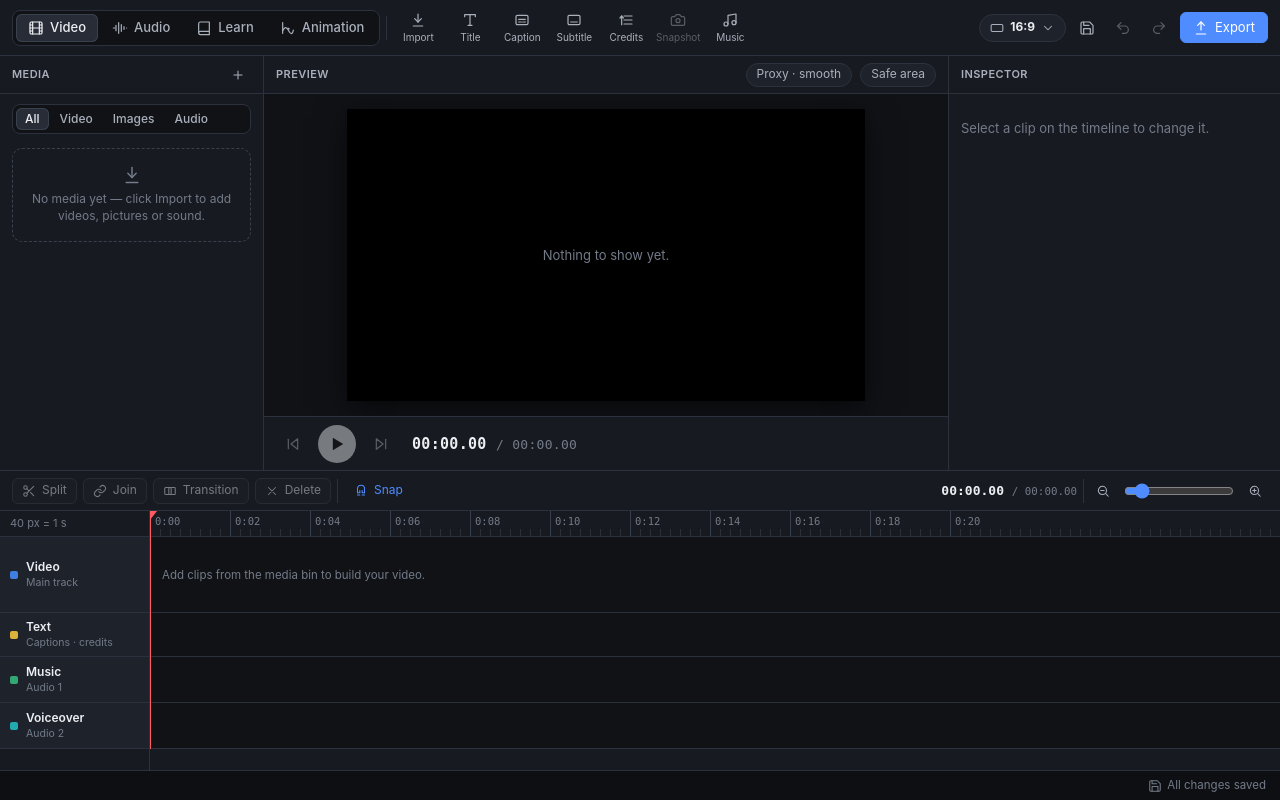
Scenario: A5 selection bar › typed Selection start and end set the selection; length and samples follow
Click the 1st button "Audio" at (141, 28), box [100,14,182,42]
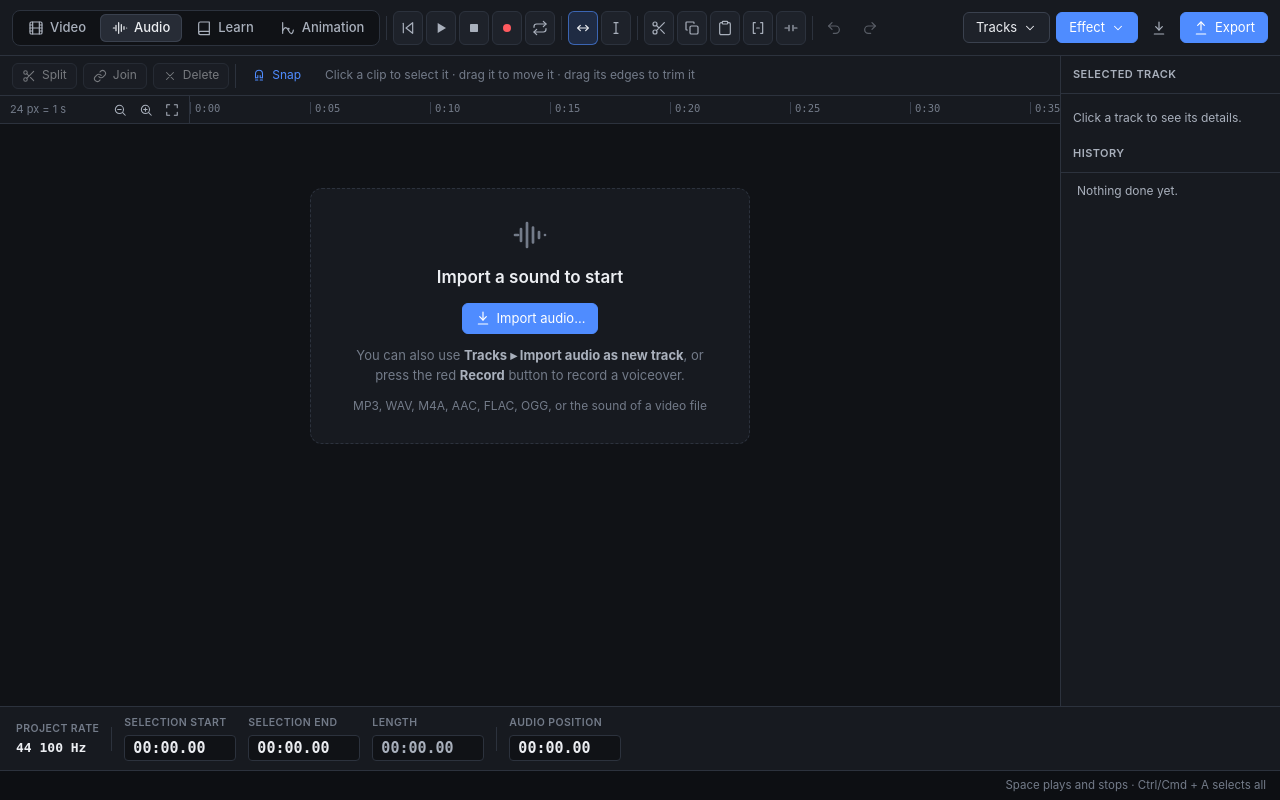
Click the button named "Import audio" at (1159, 28), box [1144,12,1174,42]
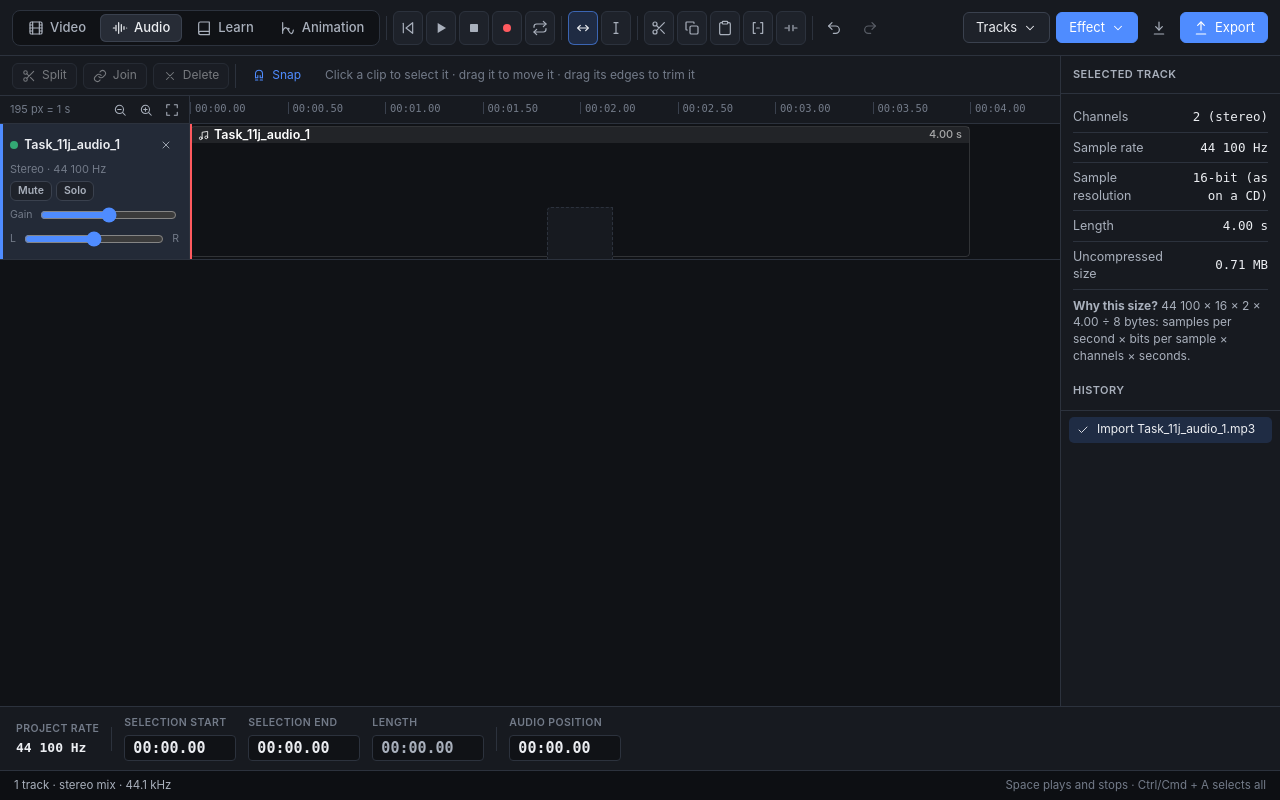
Replace the text in the field labelled "Selection start" with "1" at (180, 748), box [124,735,236,761]
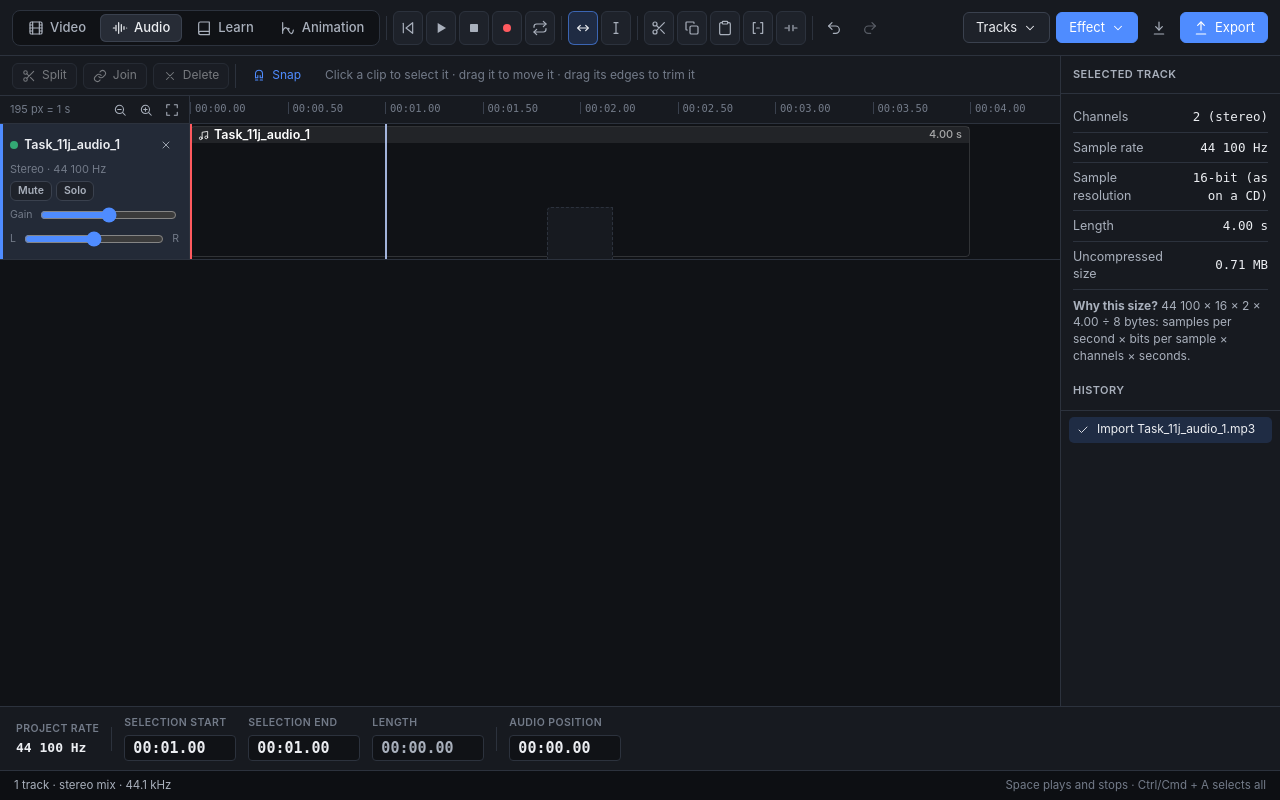
Replace the text in the field labelled "Selection end" with "2.5" at (304, 748), box [248,735,360,761]
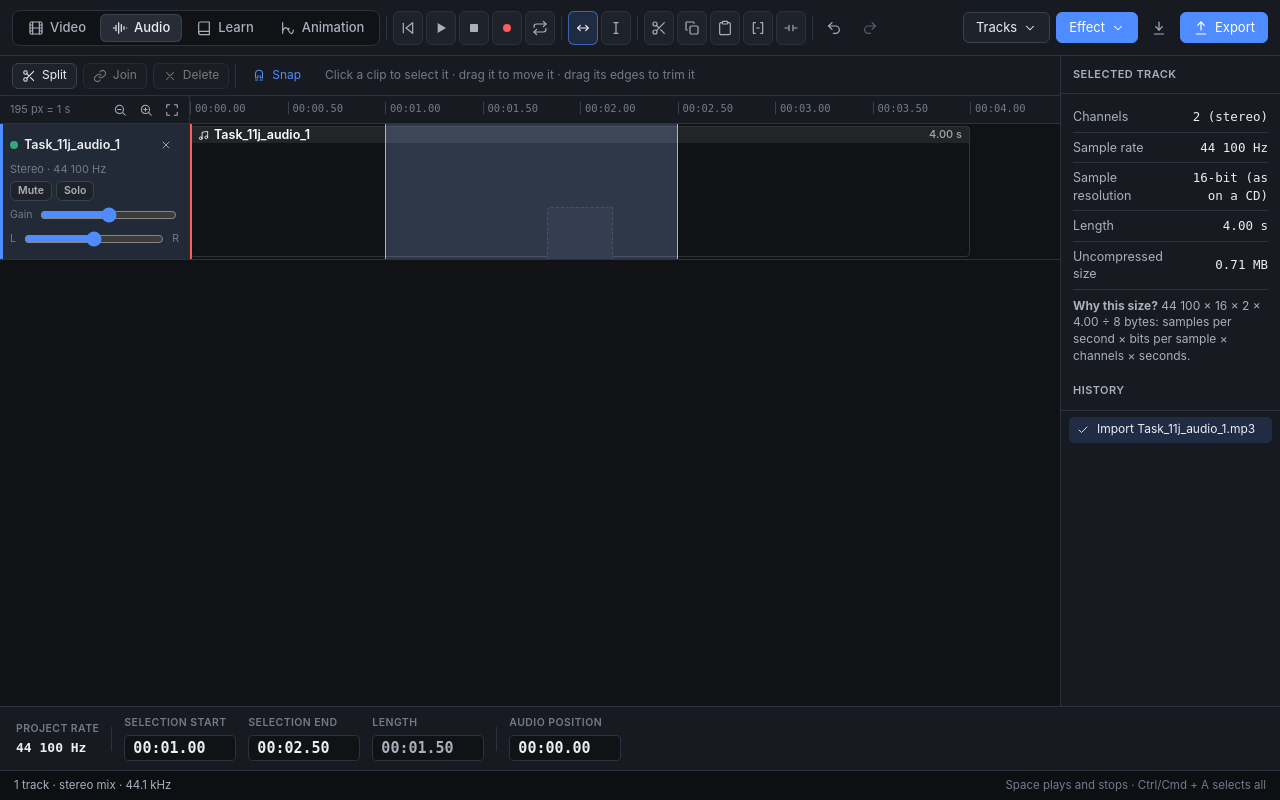
Check: the field labelled "Length" holds "00:01.50", box [372,735,484,761]
